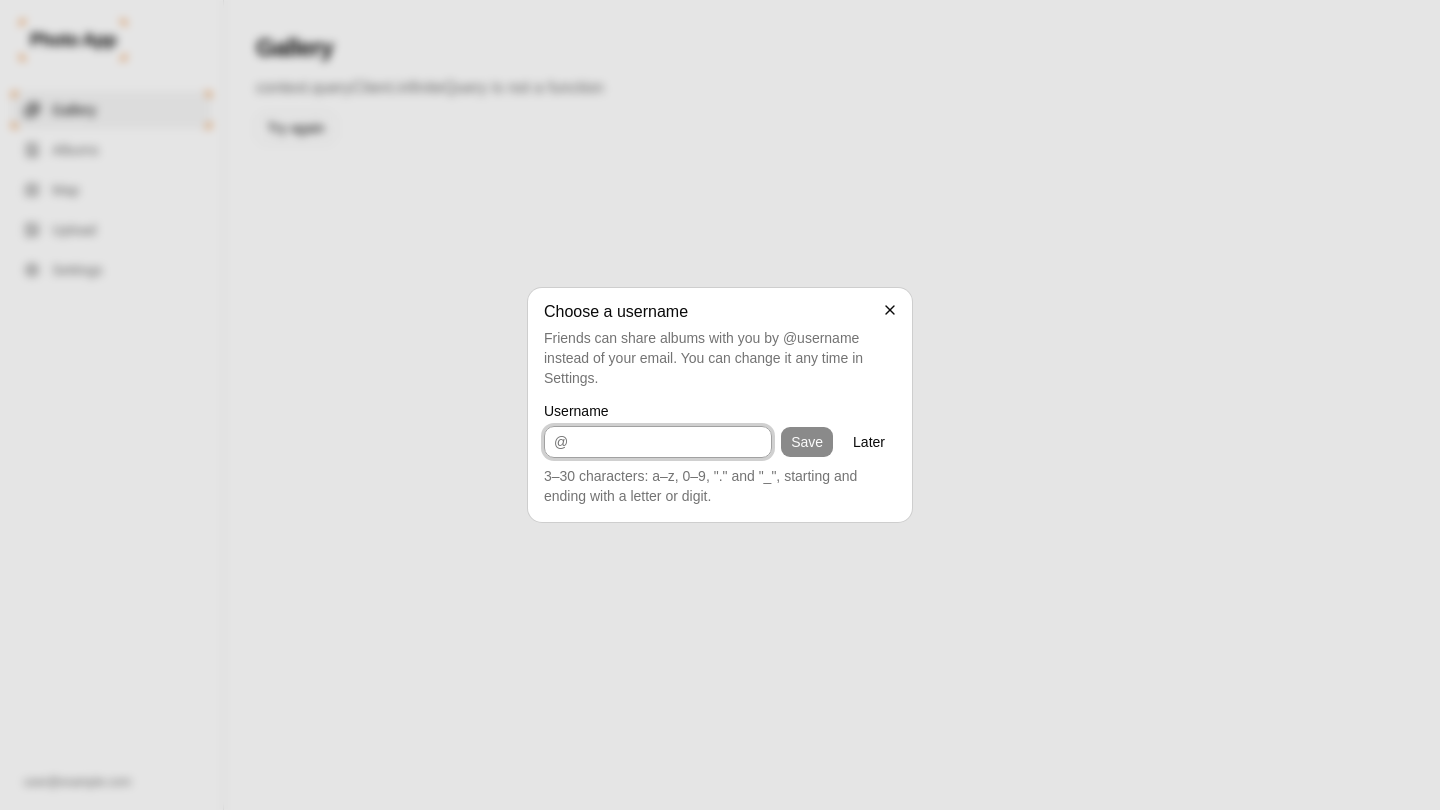
Test: first-login username prompt (FR-ACC-3, 8.15) › saves the name (normalised), confirms, and doesn't ask again
Type "@Ana_R" into the field labelled "Username".
click(658, 442); type("@Ana_R")  # box [544,426,772,458]
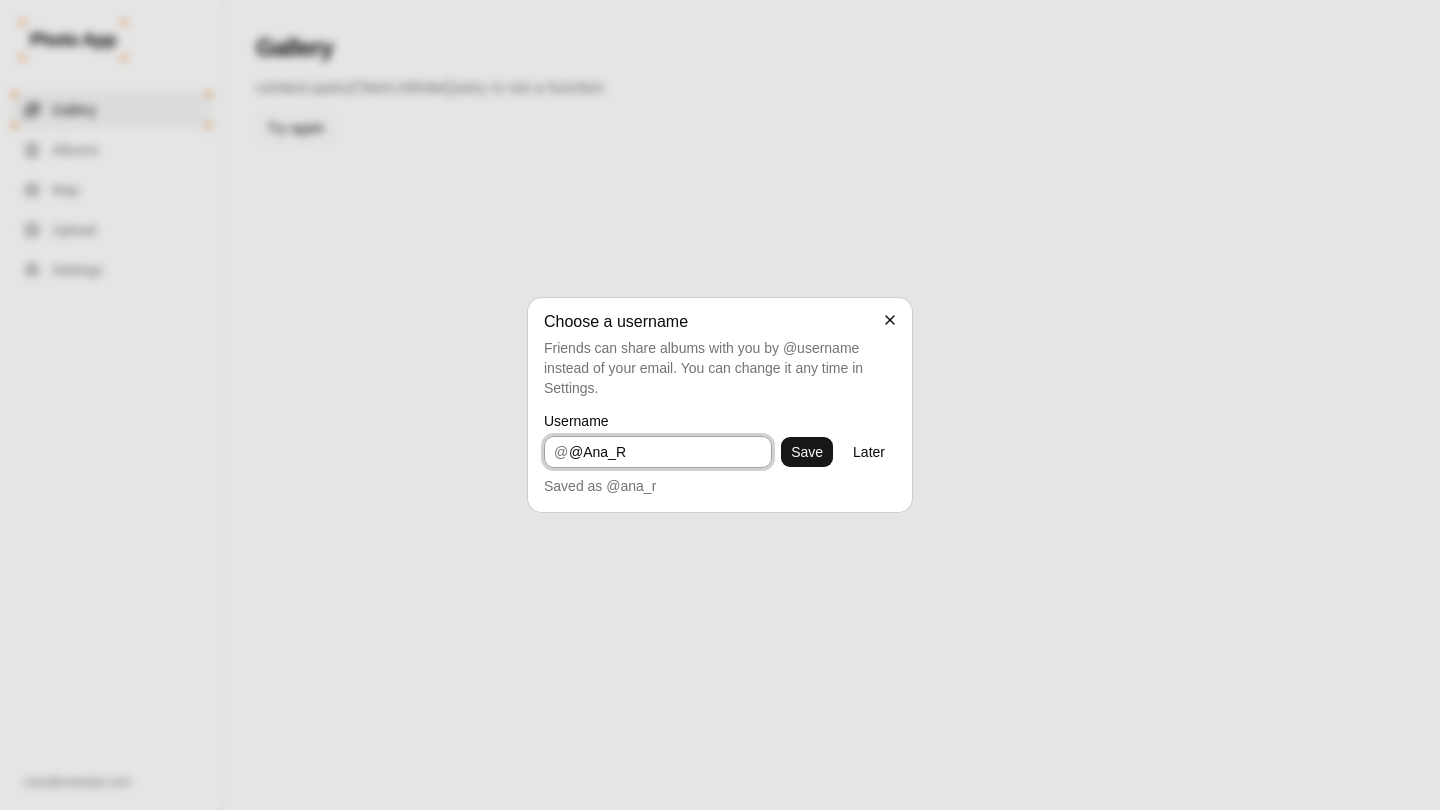
Click the button "Save".
click(807, 452)  # box [780,436,834,468]
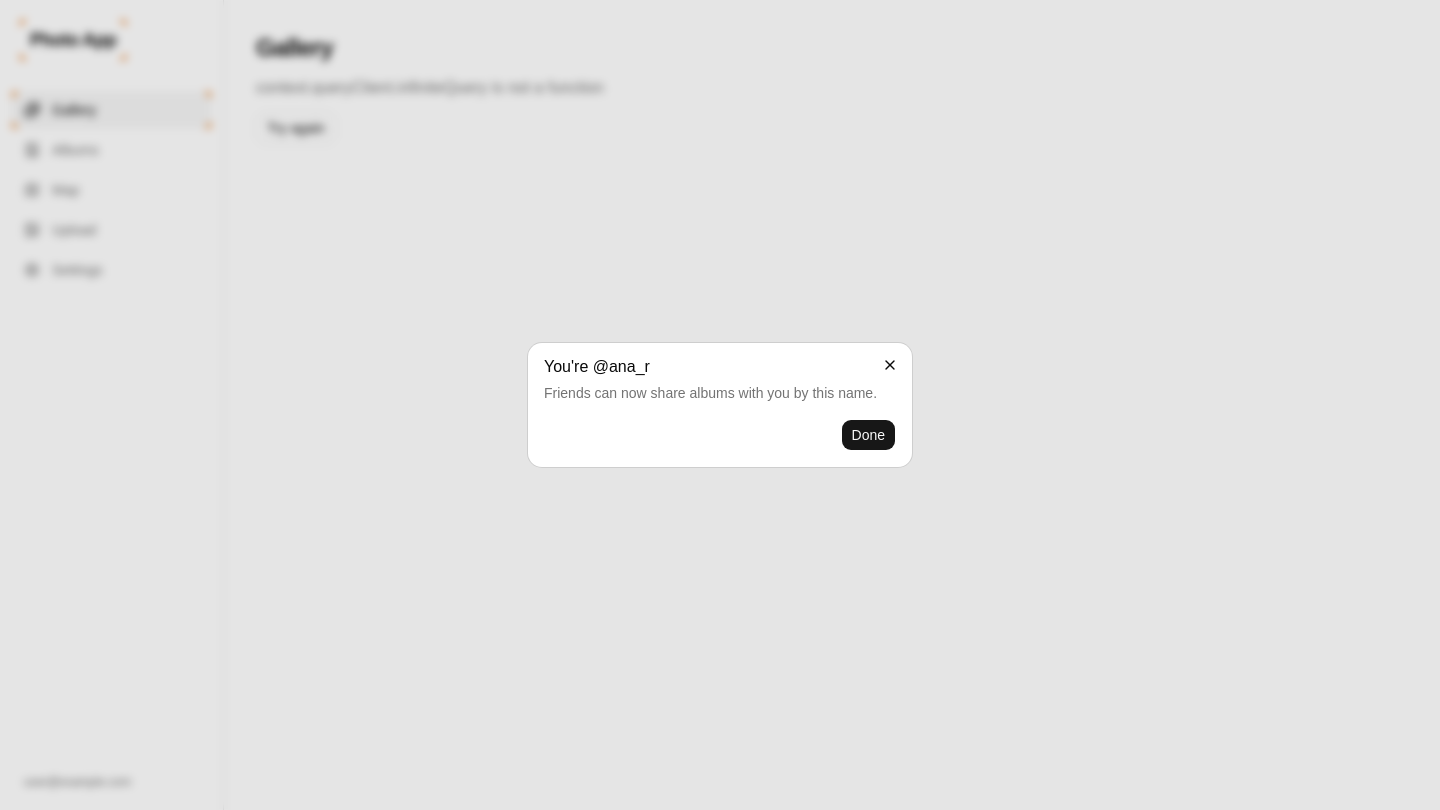
Check: the dialog "You're @ana_r" is shown, box [528,343,912,467]
Click the button "Done".
click(868, 435)  # box [840,419,896,451]
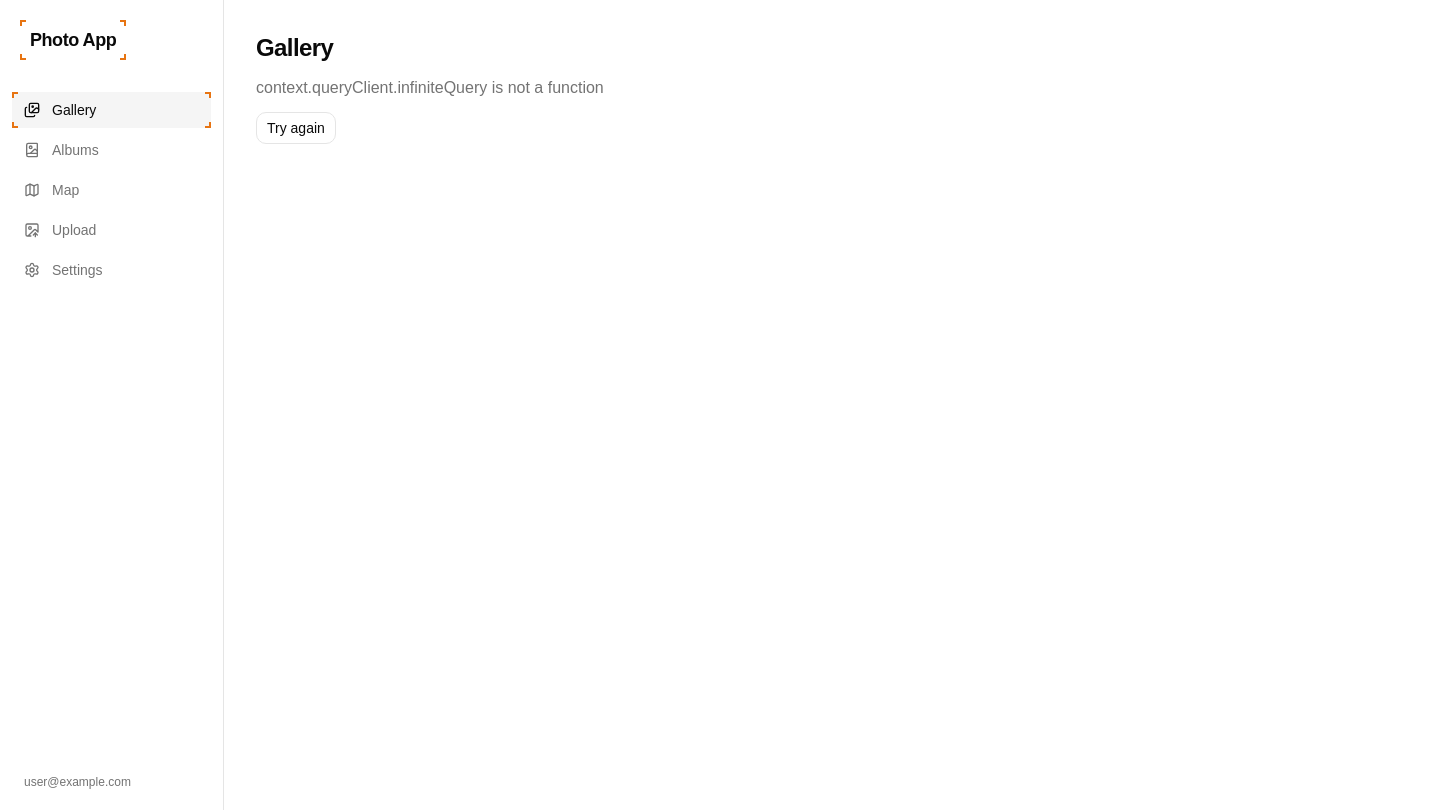
Check: the dialog is gone
